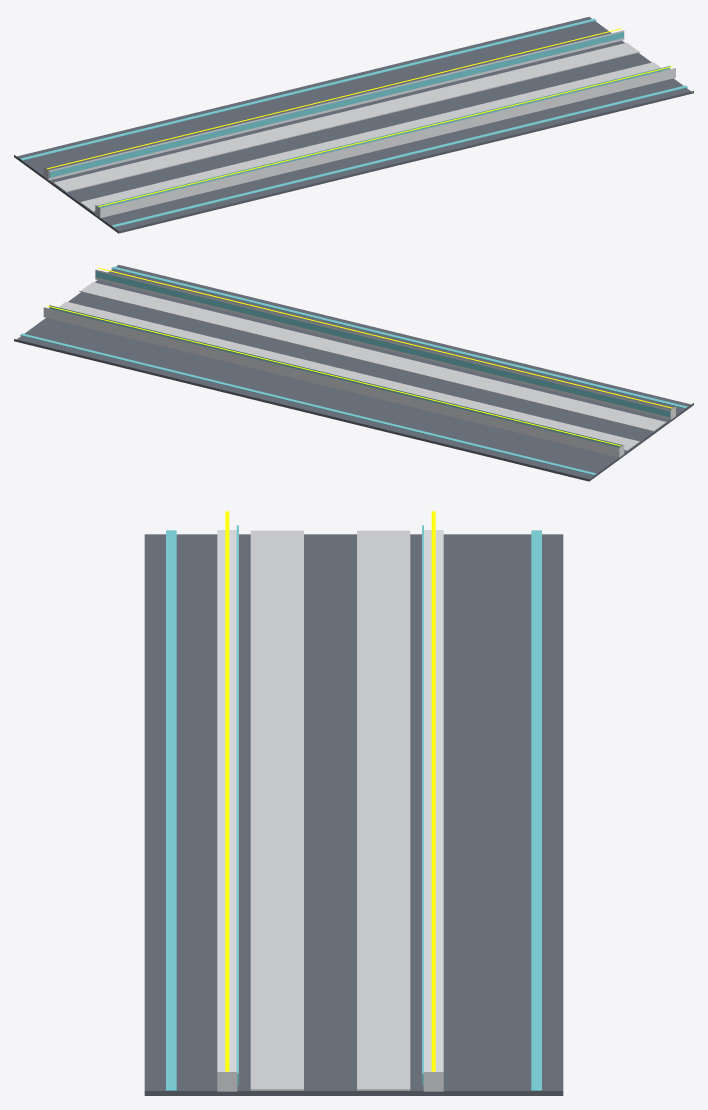
File: ext_maglev_guideway_02.glb
3 views of the same model, one above another, from view 1: azimuth 30°, elevation 25°; view 2: azimuth 150°, elevation 25°; view 3: azimuth 270°, elevation 25° (orthographic). The views are drawn at different scales.
Visible parts, largest first — view 1: Bed, Stator_Lev, Trough_Walls, Stator_Guide, Side_Lines, Guide_Glow; view 2: Bed, Stator_Lev, Trough_Walls, Stator_Guide, Side_Lines, Guide_Glow; view 3: Bed, Stator_Lev, Trough_Walls, Side_Lines, Guide_Glow, Stator_Guide.
Boxes of the visible parts, box(x1,y1,x2,y2) form: Bed: box(14, 16, 693, 233); Stator_Lev: box(52, 42, 660, 211); Trough_Walls: box(43, 30, 675, 217); Stator_Guide: box(49, 32, 670, 208); Side_Lines: box(19, 18, 687, 227); Guide_Glow: box(47, 28, 673, 206); Bed: box(14, 264, 693, 481); Stator_Lev: box(58, 282, 666, 451); Trough_Walls: box(43, 269, 675, 457); Stator_Guide: box(49, 271, 670, 447); Side_Lines: box(20, 266, 688, 475); Guide_Glow: box(47, 268, 672, 446); Bed: box(144, 534, 563, 1095); Stator_Lev: box(250, 530, 410, 1090); Trough_Walls: box(217, 530, 443, 1091); Side_Lines: box(166, 530, 541, 1090); Guide_Glow: box(225, 511, 435, 1071); Stator_Guide: box(236, 525, 423, 1085).
Size of the model in its own units: 9.99 by 0.203 by 3.15.
